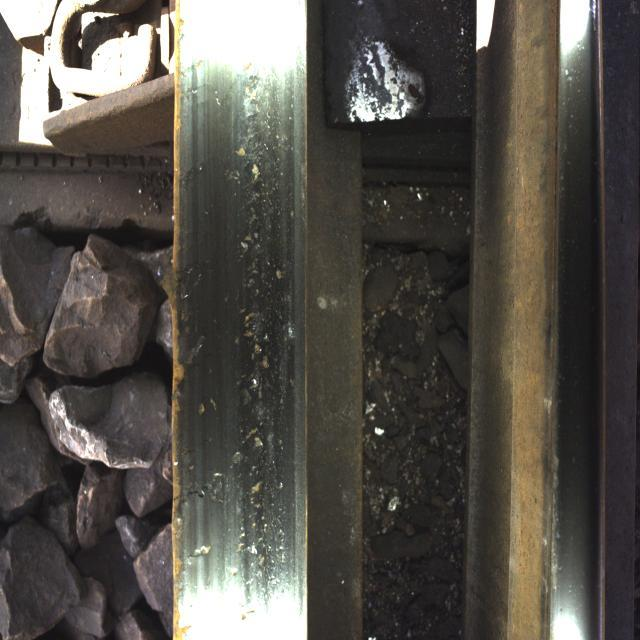crack: (172, 446, 226, 554)
scar: (226, 67, 289, 584)
